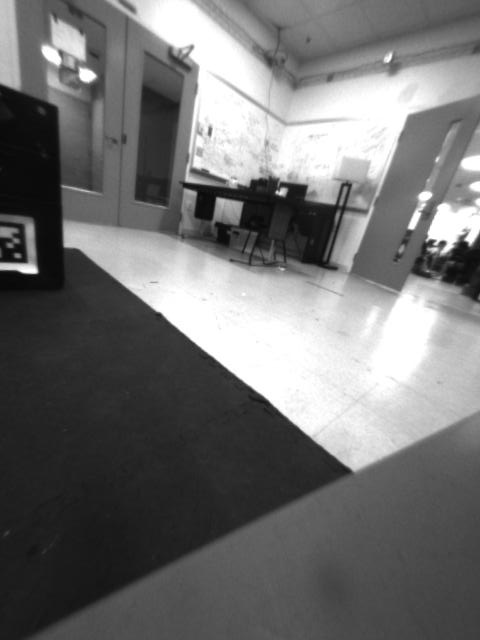door_handle: (98, 127, 121, 152)
